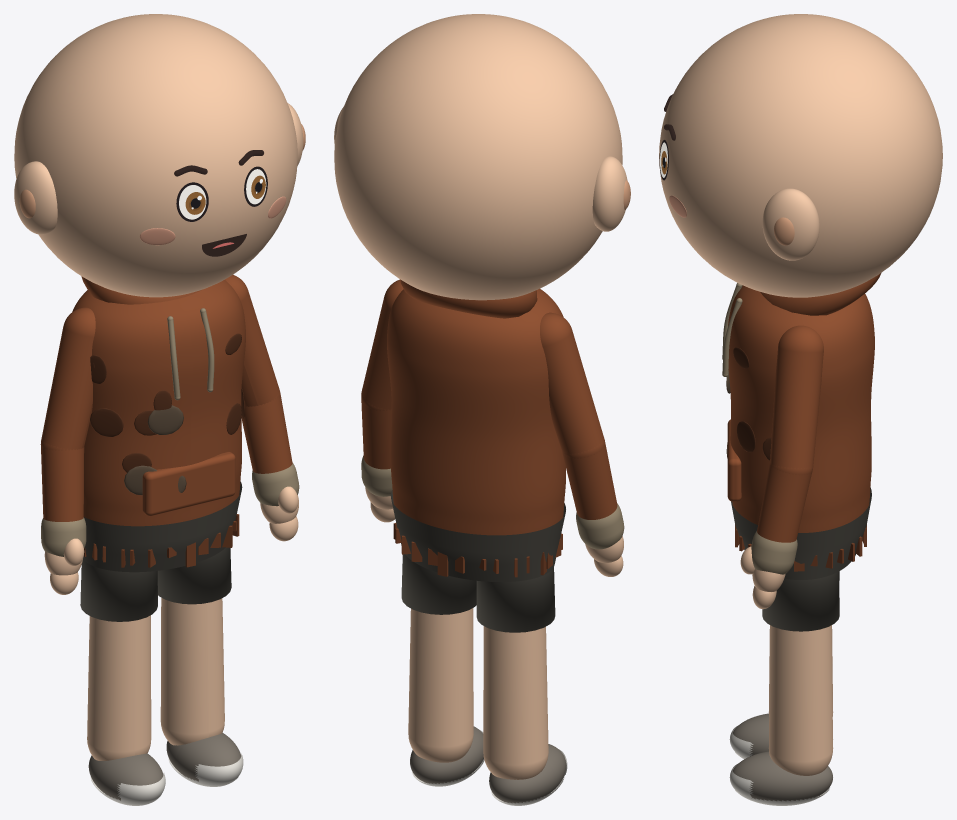
Rendered from hoofdpersonage_rafels.glb.
The picture shows the model from 3 angles, left to right: view 1: azimuth 30°, elevation 25°; view 2: azimuth 150°, elevation 25°; view 3: azimuth 270°, elevation 25°; orthographic projection.
Parts seen in each view (by area): view 1: hoofdpersonage_rafels_hoofd, hoofdpersonage_rafels_romp, hoofdpersonage_rafels_been_L, hoofdpersonage_rafels_been_R, hoofdpersonage_rafels_short_heup, hoofdpersonage_rafels_bovenarm_R, hoofdpersonage_rafels_buidelzak, hoofdpersonage_rafels_short_R, hoofdpersonage_rafels_onderarm_R, hoofdpersonage_rafels_short_L, hoofdpersonage_rafels_onderarm_L, hoofdpersonage_rafels_bovenarm_L (+13 smaller); view 2: hoofdpersonage_rafels_hoofd, hoofdpersonage_rafels_romp, hoofdpersonage_rafels_been_L, hoofdpersonage_rafels_been_R, hoofdpersonage_rafels_short_heup, hoofdpersonage_rafels_bovenarm_R, hoofdpersonage_rafels_short_R, hoofdpersonage_rafels_short_L, hoofdpersonage_rafels_onderarm_R, hoofdpersonage_rafels_bovenarm_L, hoofdpersonage_rafels_schoen_R, hoofdpersonage_rafels_oor_R (+6 smaller); view 3: hoofdpersonage_rafels_hoofd, hoofdpersonage_rafels_romp, hoofdpersonage_rafels_been_L, hoofdpersonage_rafels_bovenarm_L, hoofdpersonage_rafels_short_L, hoofdpersonage_rafels_short_heup, hoofdpersonage_rafels_onderarm_L, hoofdpersonage_rafels_schoen_L, hoofdpersonage_rafels_oor_L, hoofdpersonage_rafels_capuchon, hoofdpersonage_rafels_manchet_L, hoofdpersonage_rafels_schoen_R (+2 smaller).
Part boxes in pixels (x1=…): hoofdpersonage_rafels_hoofd: x1=14, y1=14, x2=297, y2=297; hoofdpersonage_rafels_romp: x1=72, y1=280, x2=245, y2=526; hoofdpersonage_rafels_been_L: x1=160, y1=597, x2=224, y2=745; hoofdpersonage_rafels_been_R: x1=87, y1=615, x2=151, y2=760; hoofdpersonage_rafels_short_heup: x1=83, y1=481, x2=242, y2=572; hoofdpersonage_rafels_bovenarm_R: x1=41, y1=307, x2=95, y2=450; hoofdpersonage_rafels_buidelzak: x1=142, y1=451, x2=235, y2=516; hoofdpersonage_rafels_short_R: x1=80, y1=559, x2=157, y2=621; hoofdpersonage_rafels_onderarm_R: x1=41, y1=443, x2=84, y2=521; hoofdpersonage_rafels_short_L: x1=157, y1=547, x2=231, y2=604; hoofdpersonage_rafels_onderarm_L: x1=241, y1=393, x2=292, y2=473; hoofdpersonage_rafels_bovenarm_L: x1=225, y1=275, x2=279, y2=406; hoofdpersonage_rafels_hoofd: x1=334, y1=14, x2=622, y2=300; hoofdpersonage_rafels_romp: x1=387, y1=288, x2=565, y2=535; hoofdpersonage_rafels_been_L: x1=408, y1=608, x2=473, y2=762; hoofdpersonage_rafels_been_R: x1=483, y1=626, x2=548, y2=779; hoofdpersonage_rafels_short_heup: x1=390, y1=490, x2=565, y2=582; hoofdpersonage_rafels_bovenarm_R: x1=540, y1=312, x2=604, y2=457; hoofdpersonage_rafels_short_R: x1=476, y1=567, x2=555, y2=632; hoofdpersonage_rafels_short_L: x1=401, y1=554, x2=476, y2=614; hoofdpersonage_rafels_onderarm_R: x1=562, y1=442, x2=617, y2=519; hoofdpersonage_rafels_bovenarm_L: x1=361, y1=279, x2=403, y2=409; hoofdpersonage_rafels_schoen_R: x1=489, y1=744, x2=566, y2=803; hoofdpersonage_rafels_oor_R: x1=592, y1=156, x2=627, y2=231; hoofdpersonage_rafels_hoofd: x1=659, y1=14, x2=942, y2=297; hoofdpersonage_rafels_romp: x1=728, y1=285, x2=874, y2=532; hoofdpersonage_rafels_been_L: x1=768, y1=625, x2=833, y2=775; hoofdpersonage_rafels_bovenarm_L: x1=770, y1=325, x2=823, y2=474; hoofdpersonage_rafels_short_L: x1=762, y1=571, x2=839, y2=631; hoofdpersonage_rafels_short_heup: x1=731, y1=487, x2=871, y2=579; hoofdpersonage_rafels_onderarm_L: x1=757, y1=463, x2=812, y2=542; hoofdpersonage_rafels_schoen_L: x1=732, y1=751, x2=832, y2=801; hoofdpersonage_rafels_oor_L: x1=762, y1=188, x2=819, y2=260; hoofdpersonage_rafels_capuchon: x1=760, y1=273, x2=881, y2=315; hoofdpersonage_rafels_manchet_L: x1=751, y1=531, x2=797, y2=574; hoofdpersonage_rafels_schoen_R: x1=732, y1=713, x2=769, y2=756.
Bounding box in the file's own units: 0.6887 × 1.76 × 0.6.
